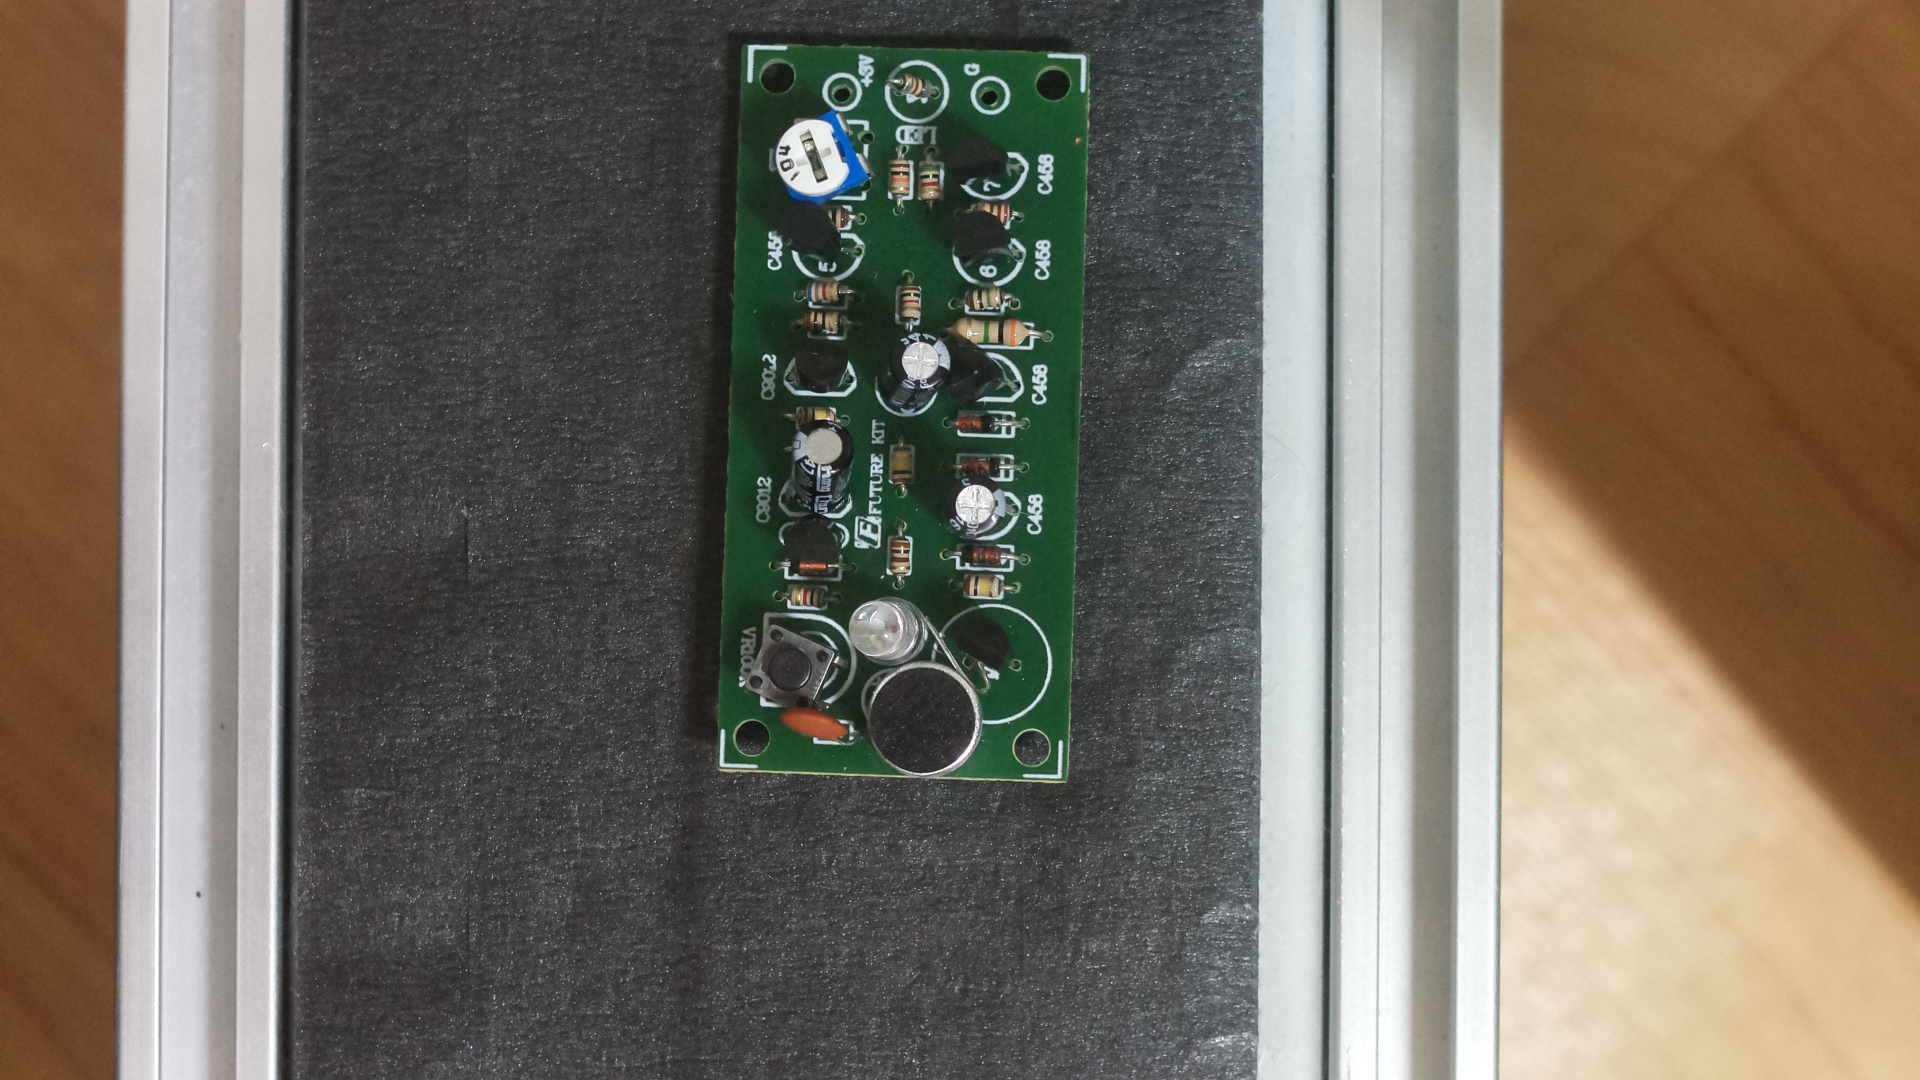A_Misordered: (713, 24, 1098, 811)
